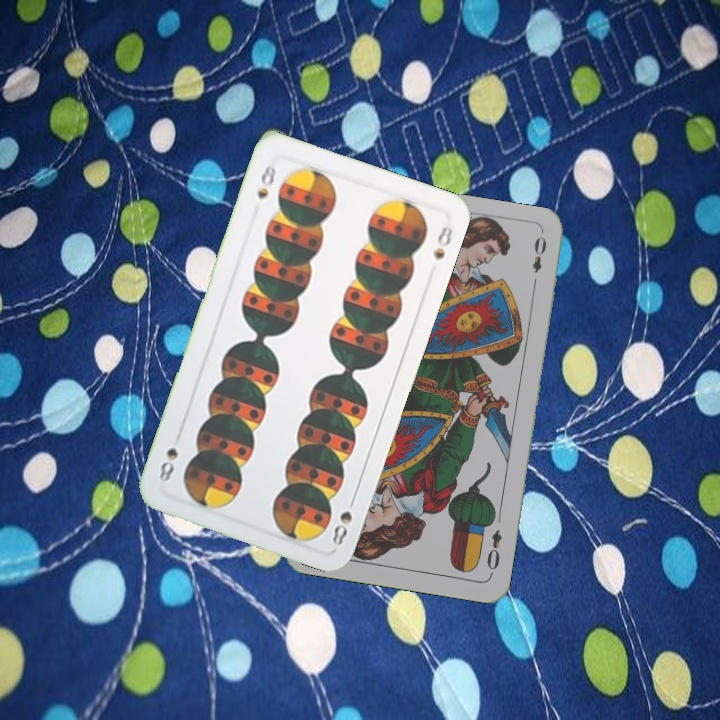EO: (482, 525, 505, 573)
S8: (328, 491, 359, 548), (253, 157, 279, 202)
